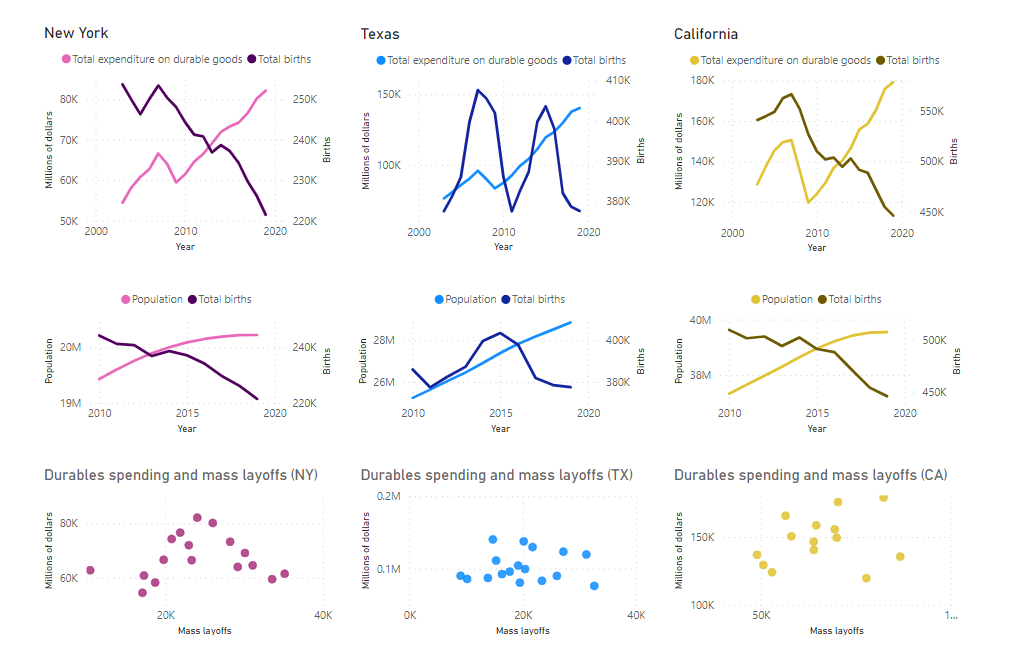

This screenshot's page, from the dashboard's own definition file:
{"tool":"powerbi","page":{"name":"Page 1","canvas":[1280,720],"ordinal":0},"visuals":[{"type":"lineChart","title":"California","fields":{"Category":["combined_state_data.year"],"Y":["Sum(combined_state_data.durable_exp)"],"Y2":["Sum(combined_state_data.total_births)"]},"box":[718.4,6.6,326.7,257.8],"z":0},{"type":"lineChart","title":"Texas","fields":{"Category":["combined_state_data.year"],"Y":["Sum(combined_state_data.durable_exp)"],"Y2":["Sum(combined_state_data.total_births)"]},"box":[370.6,6.6,326.7,256.7],"z":1000},{"type":"lineChart","title":"New York","fields":{"Category":["combined_state_data.year"],"Y":["Sum(combined_state_data.durable_exp)"],"Y2":["Sum(combined_state_data.total_births)"]},"box":[18.4,5.5,330,257.8],"z":2000},{"type":"lineChart","fields":{"Y":["Sum(combined_state_data.total_pop)"],"Category":["combined_state_data.year"],"Y2":["Sum(combined_state_data.total births)"]},"box":[718.4,292,329.9,173.6],"z":3000},{"type":"lineChart","fields":{"Y":["Sum(combined_state_data.total_pop)"],"Category":["combined_state_data.year"],"Y2":["Sum(combined_state_data.total births)"]},"box":[366.7,292,329.9,173.6],"z":4000},{"type":"lineChart","title":"Population","fields":{"Y":["Sum(combined_state_data.total_pop)"],"Category":["combined_state_data.year"],"Y2":["Sum(combined_state_data.total births)"]},"box":[18.4,292,329.9,173.6],"z":5000},{"type":"scatterChart","title":"Durables spending and mass layoffs (NY)","fields":{"X":["combined_state_data.total_layoffs"],"Y":["combined_state_data.durable goods"]},"box":[18.8,496.5,329.4,192.9],"z":6000},{"type":"scatterChart","title":"Durables spending and mass layoffs (TX)","fields":{"X":["combined_state_data.total_layoffs"],"Y":["combined_state_data.durable goods"]},"box":[370.6,496.5,325.9,192.9],"z":7000},{"type":"scatterChart","title":"Durables spending and mass layoffs (CA)","fields":{"X":["combined_state_data.total_layoffs"],"Y":["combined_state_data.durable goods"]},"box":[718.8,496.5,327.1,192.9],"z":8000}]}

Visuals, with their boxes on the page's 1280x720 design canvas (x1, y1, x2, y2). These are canvas units, not pixel positions in the 1015x670 screenshot, which may show the page scaled, cropped or inside an application window:
"California" lineChart: (x1=718, y1=7, x2=1045, y2=264)
"Texas" lineChart: (x1=371, y1=7, x2=697, y2=263)
"New York" lineChart: (x1=18, y1=6, x2=348, y2=263)
lineChart - Sum(combined_state_data.total_pop) x combined_state_data.year: (x1=718, y1=292, x2=1048, y2=466)
lineChart - Sum(combined_state_data.total_pop) x combined_state_data.year: (x1=367, y1=292, x2=697, y2=466)
"Population" lineChart: (x1=18, y1=292, x2=348, y2=466)
"Durables spending and mass layoffs (NY)" scatterChart: (x1=19, y1=496, x2=348, y2=689)
"Durables spending and mass layoffs (TX)" scatterChart: (x1=371, y1=496, x2=696, y2=689)
"Durables spending and mass layoffs (CA)" scatterChart: (x1=719, y1=496, x2=1046, y2=689)
